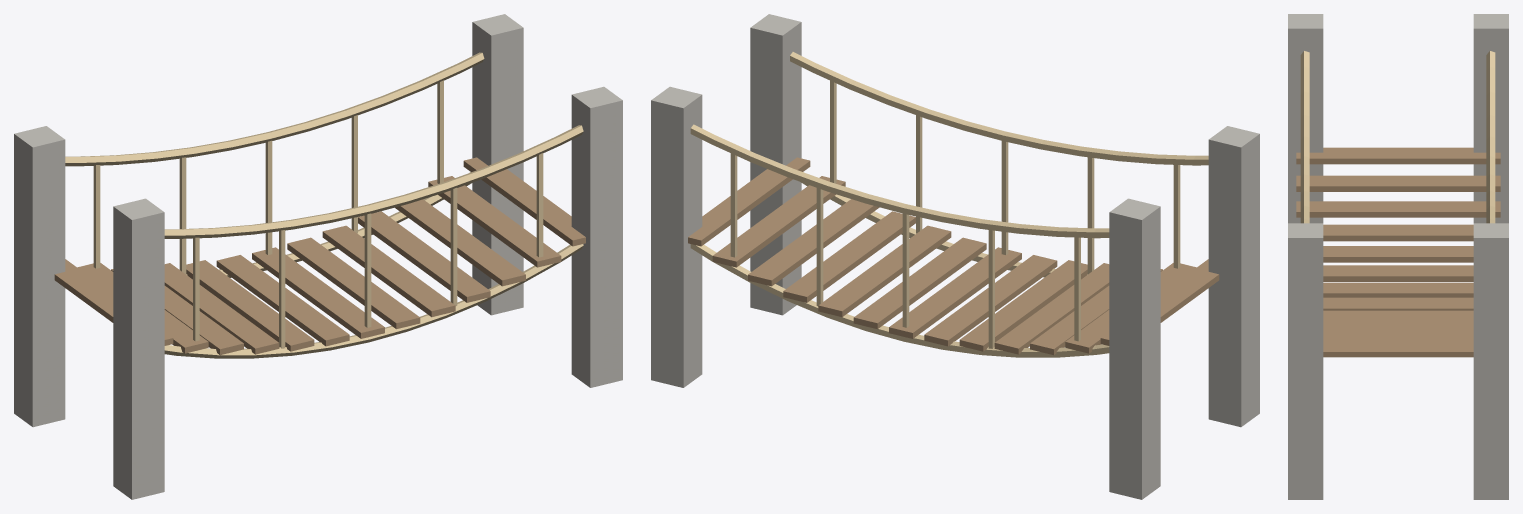
Rendered from 25-Ruinas-Templos_puente_cuerda.glb.
3 views of the same model, side by side, from view 1: azimuth 30°, elevation 25°; view 2: azimuth 150°, elevation 25°; view 3: azimuth 270°, elevation 25° (orthographic). The views are drawn at different scales.
Parts seen in each view (by area): view 1: SM_Puente_Cuerda; view 2: SM_Puente_Cuerda; view 3: SM_Puente_Cuerda.
Boxes of the visible parts, box(x1,y1,x2,y2) form: SM_Puente_Cuerda: box(14, 14, 622, 499); SM_Puente_Cuerda: box(651, 14, 1259, 499); SM_Puente_Cuerda: box(1288, 14, 1508, 499).
Bounding box in the file's own units: 2.57 × 1.4 × 1.07.
